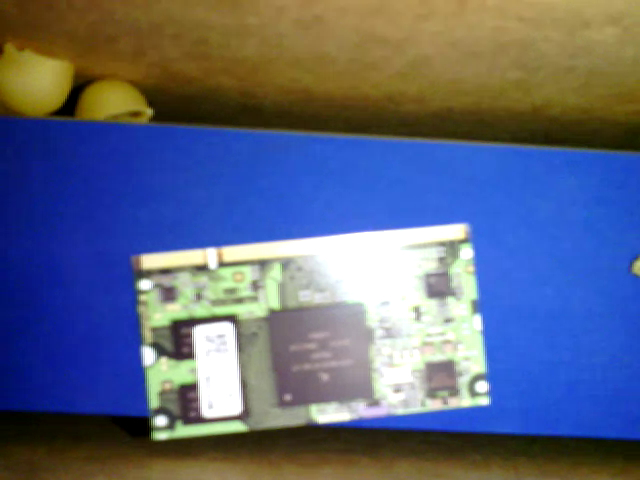shell: (1, 44, 73, 115), (73, 78, 152, 124)
